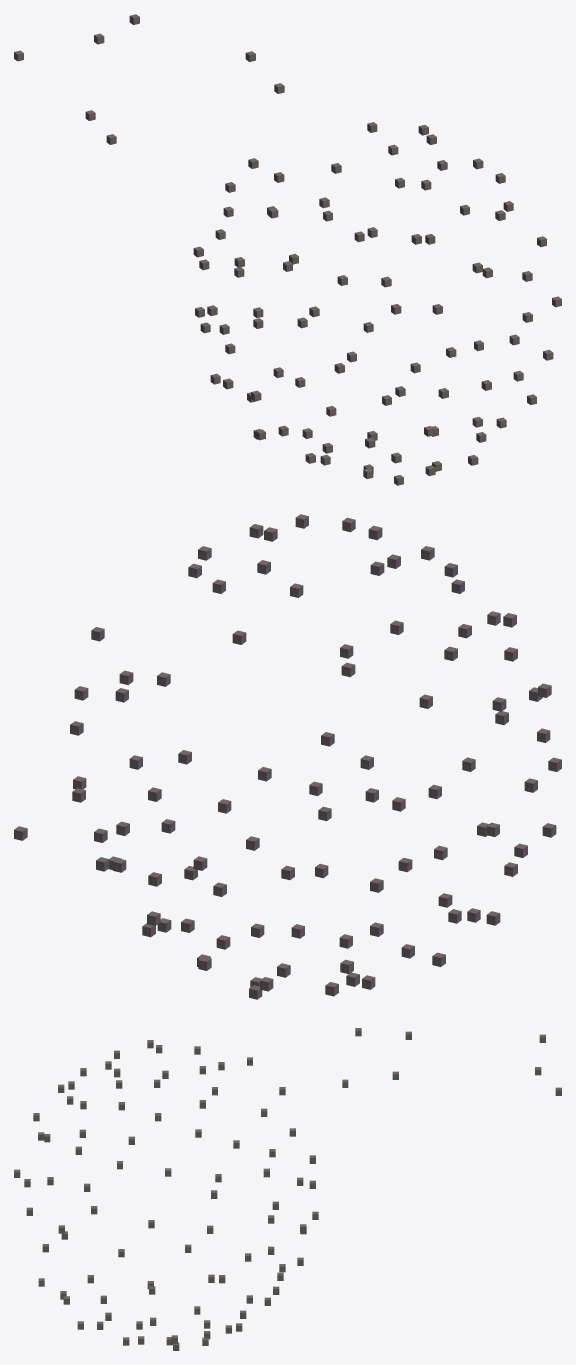
The model's file is test2_dynamic.glb.
The picture shows the model from 3 angles, top to bottom: view 1: azimuth 30°, elevation 25°; view 2: azimuth 150°, elevation 25°; view 3: azimuth 270°, elevation 25°; orthographic projection. The views are drawn at different scales.
Bounding box in the file's own units: 48.68 × 48.18 × 87.05.
100 materials, 100 textured.
